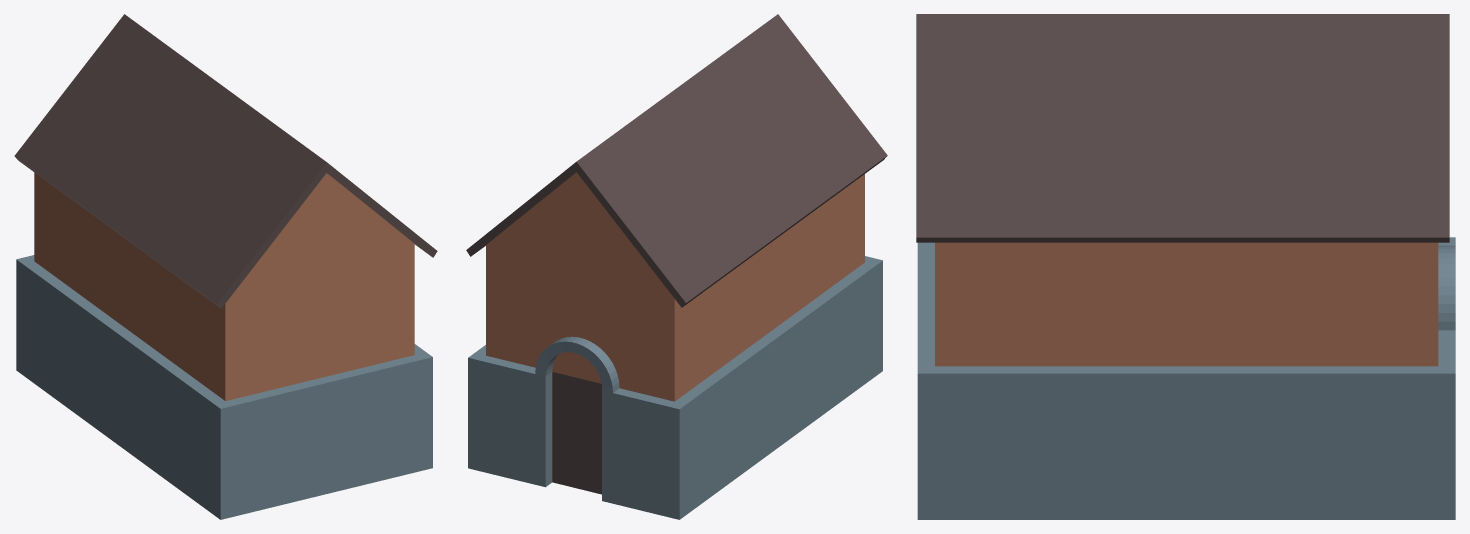
File: Wooden Stone House.fbx
3 views of the same model, side by side, from view 1: azimuth 30°, elevation 25°; view 2: azimuth 150°, elevation 25°; view 3: azimuth 270°, elevation 25° (orthographic). The views are drawn at different scales.
Parts seen in each view (by area): view 1: Wooden Roof, Walls, Stone Walls, Stone Base; view 2: Wooden Roof, Walls, Stone Walls, Stone Base; view 3: Wooden Roof, Stone Walls, Walls, Stone Base.
Boxes of the visible parts, left/top/right/bottom form: Wooden Roof: left=14, top=14, right=437, bottom=308; Walls: left=34, top=172, right=414, bottom=400; Stone Walls: left=16, top=255, right=432, bottom=497; Stone Base: left=16, top=348, right=432, bottom=519; Wooden Roof: left=466, top=14, right=887, bottom=307; Walls: left=486, top=172, right=864, bottom=401; Stone Walls: left=468, top=256, right=882, bottom=497; Stone Base: left=468, top=349, right=882, bottom=519; Wooden Roof: left=916, top=14, right=1449, bottom=242; Stone Walls: left=917, top=237, right=1455, bottom=490; Walls: left=935, top=242, right=1438, bottom=366; Stone Base: left=917, top=490, right=1455, bottom=519.
Size of the model in its own units: 501 by 312 by 449.
